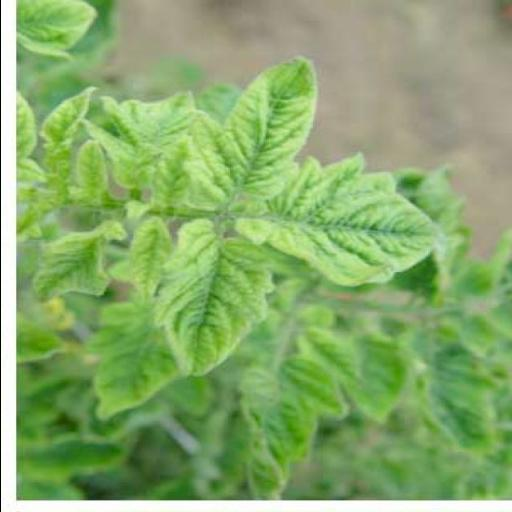disease_tomato: (237, 154, 449, 304), (153, 212, 283, 398), (190, 49, 339, 209), (84, 294, 183, 430), (28, 220, 130, 311), (16, 0, 100, 62)
